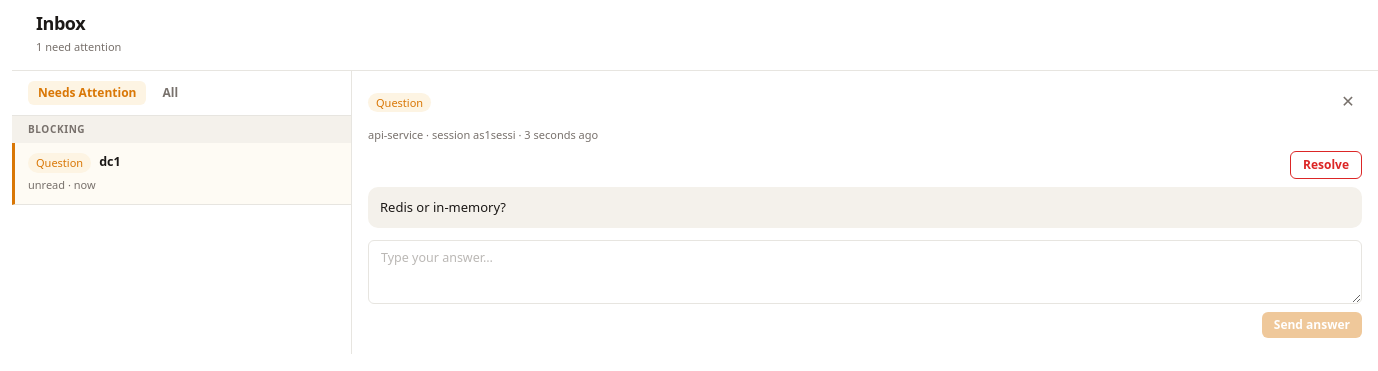
Test case: Inbox intervention actions › disables the send button while the answer is in flight
Expected: the text "Redis or in-memory?" is shown, [368,187,1362,228]
Step 1. Type "Use Redis" into the text box with placeholder "Type your answer…" → (865, 272), box [368,240,1362,304]
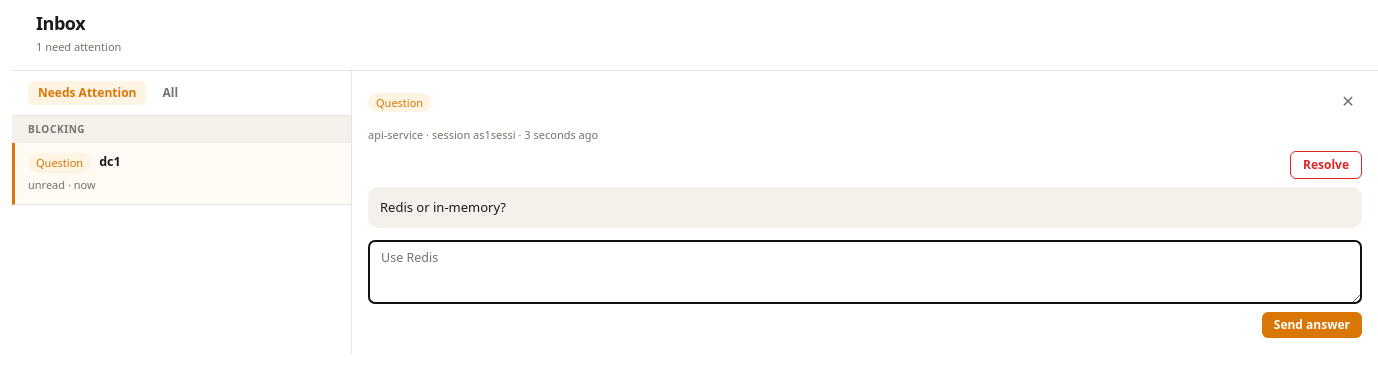
Step 2. Click the button "Send answer" → (1312, 325), box [1262,312,1362,338]
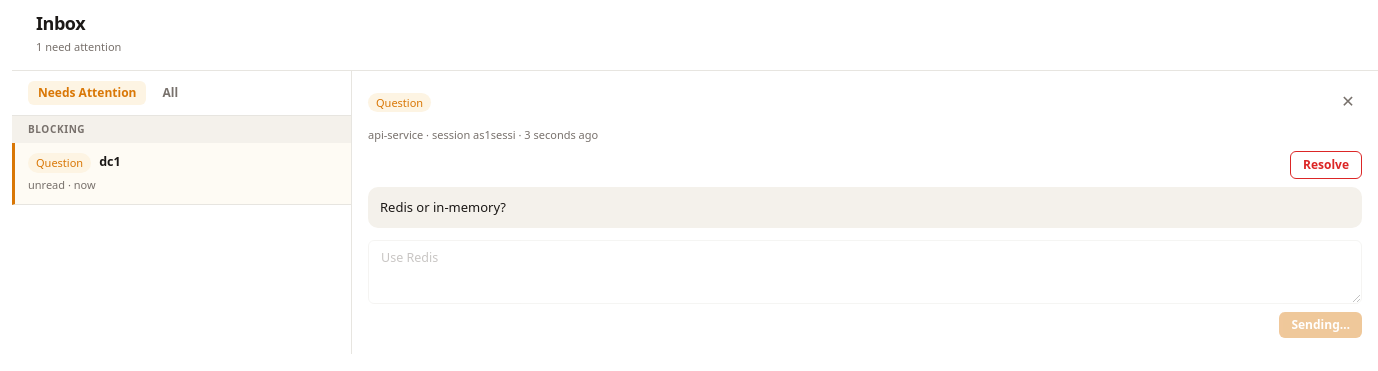
Now the button "Sending…" is disabled, box [1279,312,1362,338]
